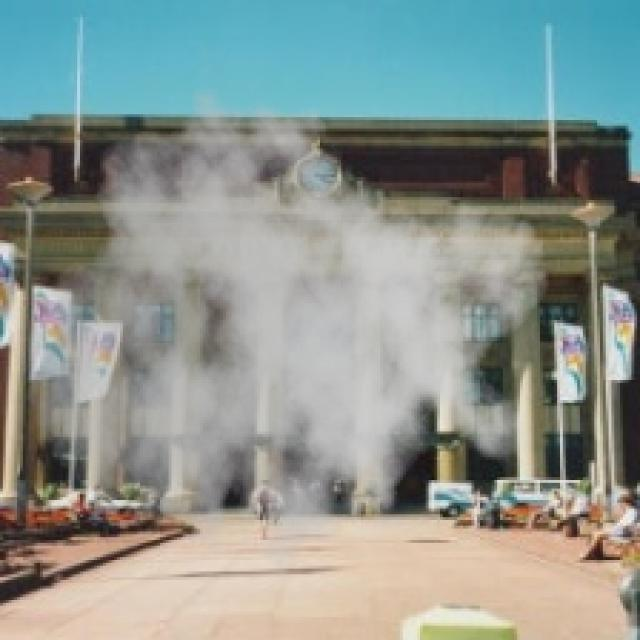smoke: (26, 74, 551, 603)
